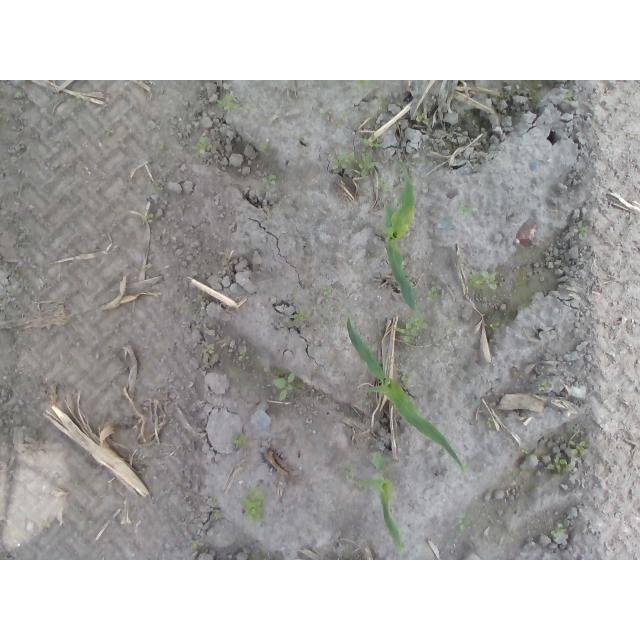Maize: (345, 317, 465, 473), (381, 158, 419, 311), (351, 451, 404, 555)
Weeds: (332, 151, 380, 174), (242, 485, 267, 524), (395, 316, 429, 341), (272, 371, 297, 403), (465, 269, 499, 292), (215, 92, 239, 112), (545, 456, 573, 473), (568, 439, 590, 457), (193, 137, 211, 154), (458, 204, 476, 220), (424, 286, 441, 302), (262, 173, 277, 191), (289, 310, 310, 322), (575, 221, 589, 239), (354, 82, 379, 92), (458, 513, 471, 530), (237, 347, 251, 362), (362, 136, 378, 149), (232, 435, 246, 449), (550, 529, 566, 540), (203, 343, 216, 356), (416, 109, 428, 123), (338, 110, 350, 123), (190, 539, 204, 550), (145, 212, 156, 224), (194, 294, 206, 303), (538, 381, 547, 392), (323, 288, 334, 297), (143, 264, 154, 273), (258, 143, 268, 152), (75, 95, 85, 104), (214, 510, 223, 519), (66, 360, 75, 369), (194, 325, 204, 332), (521, 448, 530, 455)
